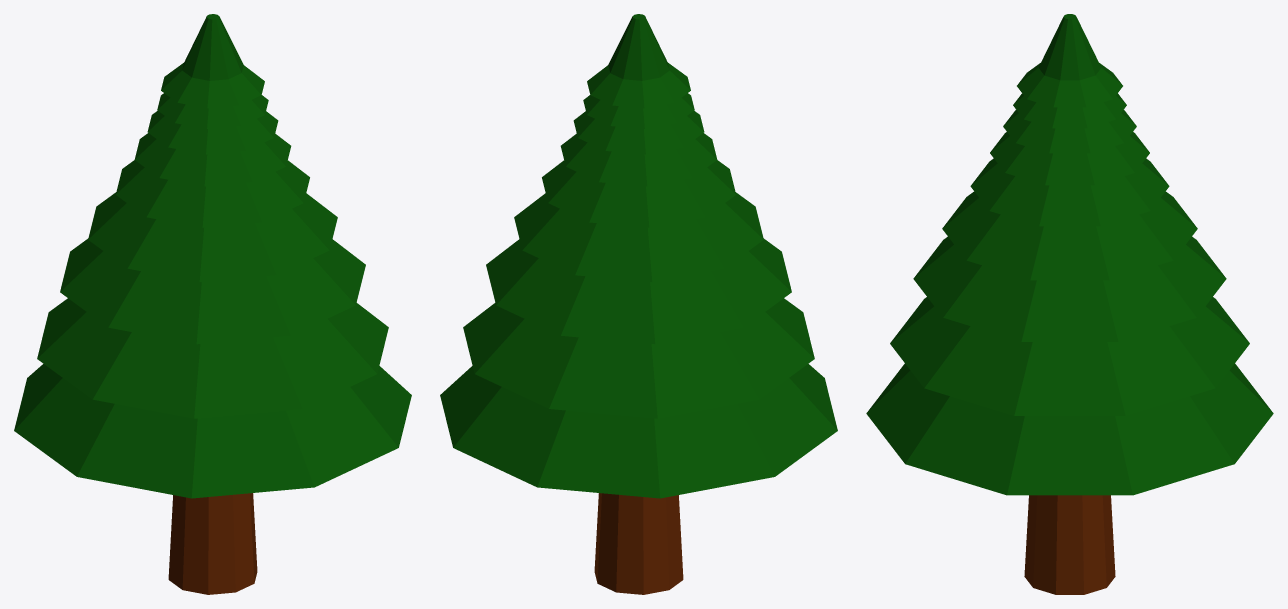
The model's file is Tree2.fbx.
3 renders of one model, left to right at view 1: azimuth 30°, elevation 25°; view 2: azimuth 150°, elevation 25°; view 3: azimuth 270°, elevation 25°, orthographic.
Parts seen in each view (by area): view 1: Cylinder.001, Cylinder.002, Cylinder.003, Cylinder.004, Cylinder, Cylinder.005, Cylinder.006, Cylinder.007, Cylinder.009, Elka, Cylinder.008; view 2: Cylinder.001, Cylinder.002, Cylinder.003, Cylinder.004, Cylinder, Cylinder.005, Cylinder.006, Cylinder.007, Cylinder.009, Elka, Cylinder.008; view 3: Cylinder.001, Cylinder.002, Cylinder.003, Cylinder.004, Cylinder, Cylinder.005, Cylinder.006, Cylinder.007, Cylinder.009, Elka, Cylinder.008.
Part boxes in pixels (bbox=[...]): Cylinder.001: bbox=[14, 364, 411, 498]; Cylinder.002: bbox=[37, 298, 388, 418]; Cylinder.003: bbox=[60, 238, 365, 344]; Cylinder.004: bbox=[88, 192, 337, 282]; Cylinder: bbox=[168, 493, 257, 594]; Cylinder.005: bbox=[116, 160, 309, 227]; Cylinder.006: bbox=[134, 133, 291, 186]; Cylinder.007: bbox=[147, 110, 278, 154]; Cylinder.009: bbox=[161, 63, 264, 108]; Elka: bbox=[182, 14, 243, 80]; Cylinder.008: bbox=[157, 93, 268, 128]; Cylinder.001: bbox=[440, 364, 837, 498]; Cylinder.002: bbox=[463, 298, 814, 418]; Cylinder.003: bbox=[486, 238, 791, 344]; Cylinder.004: bbox=[514, 192, 763, 282]; Cylinder: bbox=[594, 493, 683, 594]; Cylinder.005: bbox=[542, 160, 735, 227]; Cylinder.006: bbox=[560, 133, 717, 186]; Cylinder.007: bbox=[573, 110, 704, 154]; Cylinder.009: bbox=[587, 63, 690, 108]; Elka: bbox=[608, 14, 669, 80]; Cylinder.008: bbox=[583, 93, 694, 128]; Cylinder.001: bbox=[866, 363, 1273, 495]; Cylinder.002: bbox=[890, 297, 1249, 415]; Cylinder.003: bbox=[913, 236, 1226, 341]; Cylinder.004: bbox=[942, 191, 1197, 280]; Cylinder: bbox=[1024, 495, 1115, 594]; Cylinder.005: bbox=[970, 158, 1169, 226]; Cylinder.006: bbox=[990, 132, 1149, 185]; Cylinder.007: bbox=[1003, 110, 1136, 153]; Cylinder.009: bbox=[1017, 63, 1122, 107]; Elka: bbox=[1038, 14, 1101, 80]; Cylinder.008: bbox=[1013, 93, 1126, 128].
Size of the model in its own units: 371 by 592 by 390.
